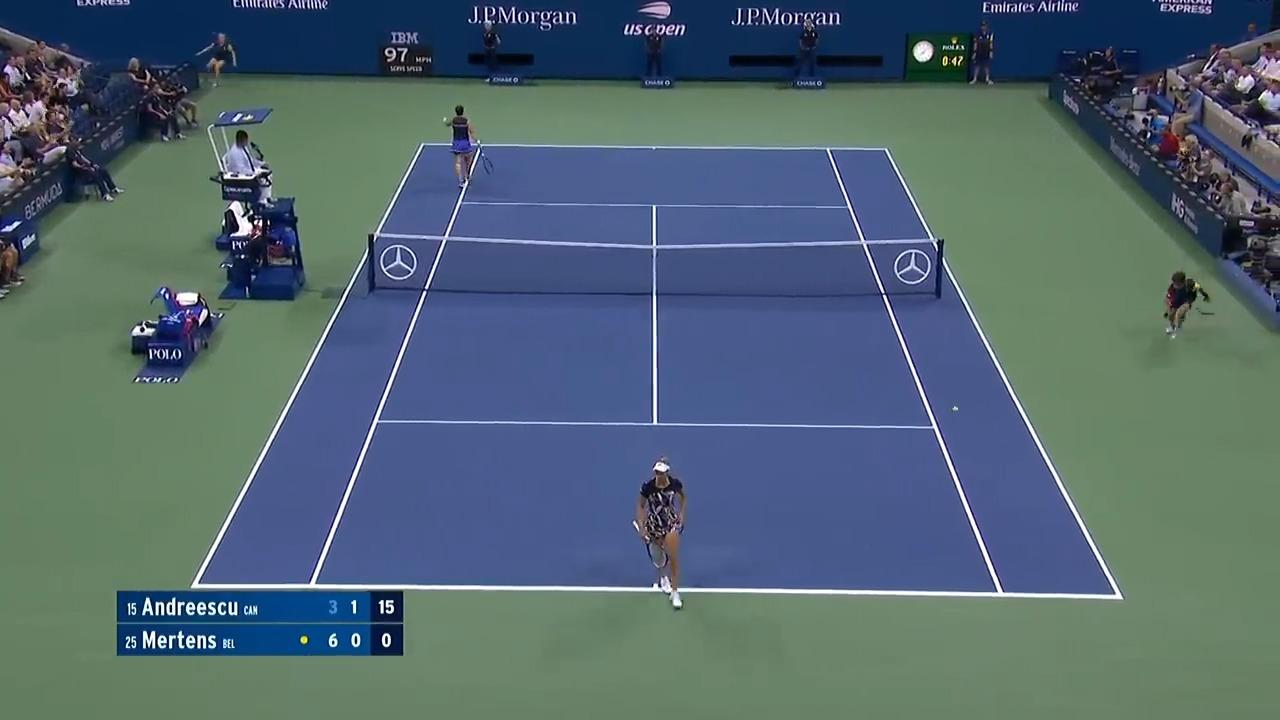tennis ball: (947, 402, 959, 417)
